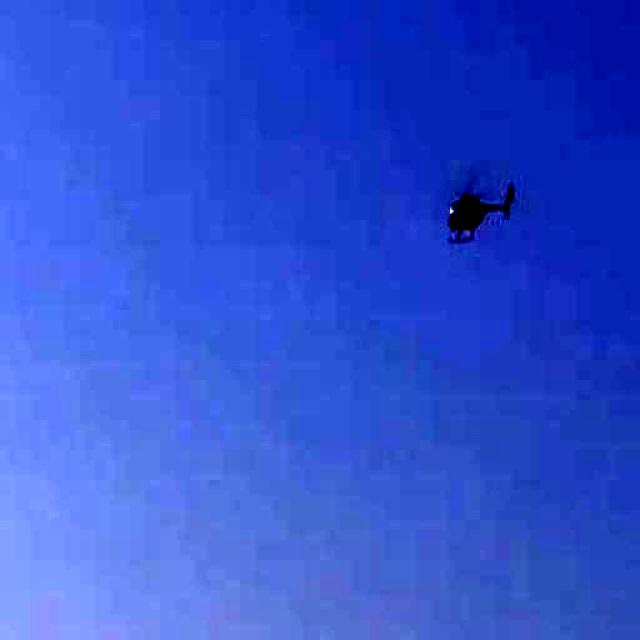drone: (404, 128, 540, 275)
